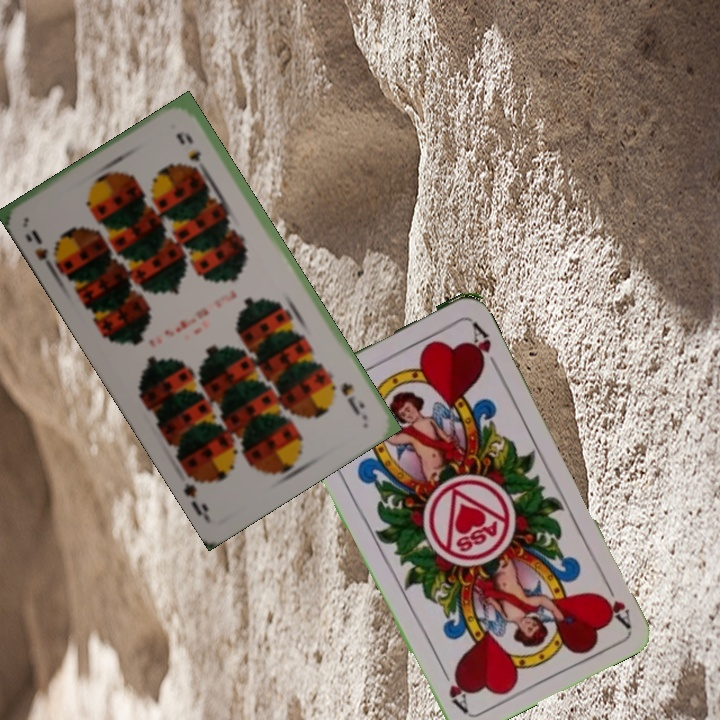HA: (596, 574, 634, 630)
S9: (27, 225, 61, 276), (337, 378, 368, 411)
